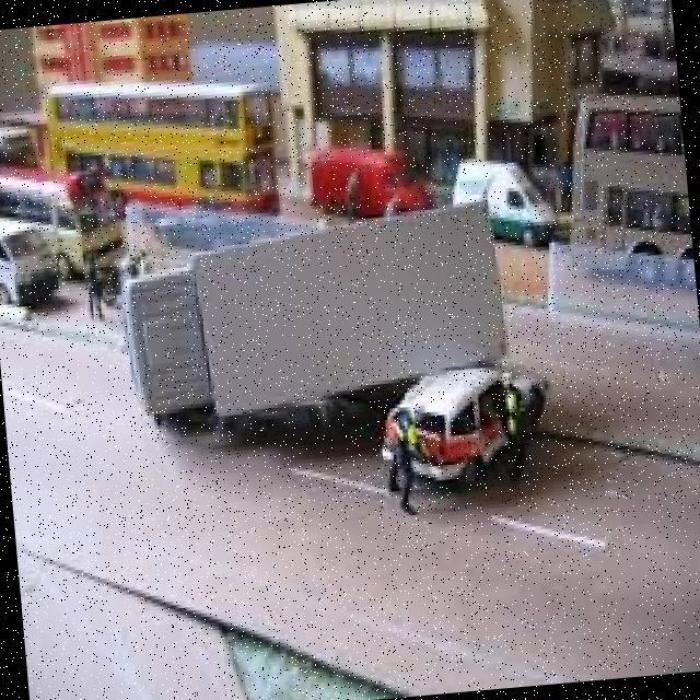Accident: (114, 189, 570, 523)
